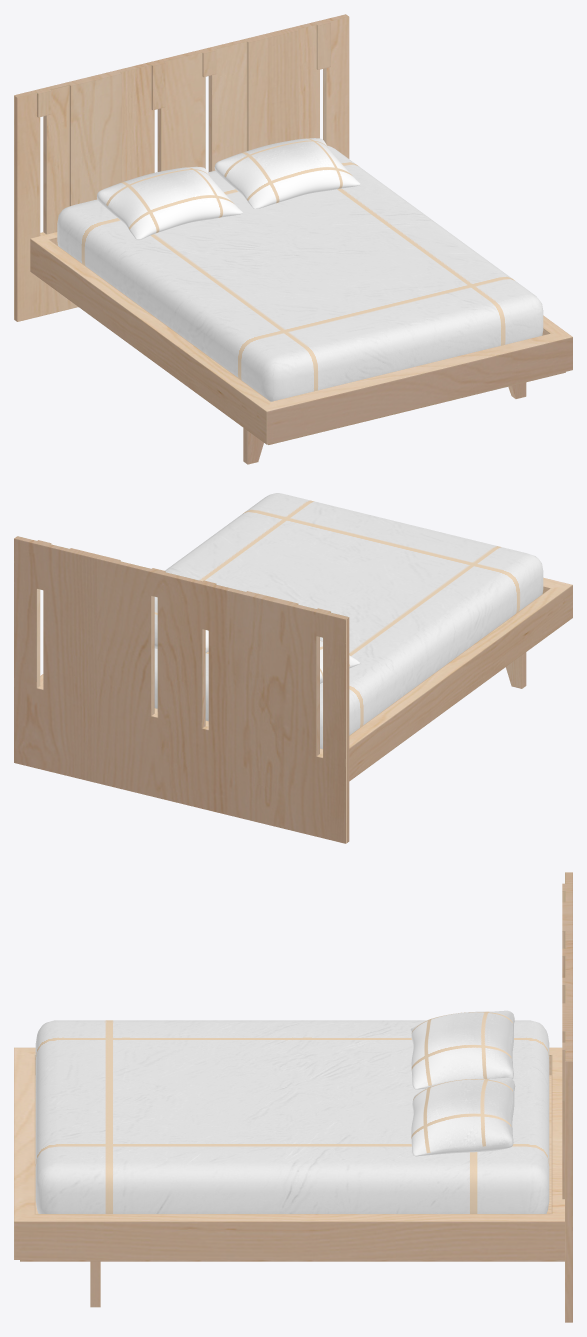
File: gautier_bed.glb
3 renders of one model, top to bottom at view 1: azimuth 30°, elevation 25°; view 2: azimuth 150°, elevation 25°; view 3: azimuth 270°, elevation 25°, orthographic. The views are drawn at different scales.
Parts seen in each view (by area): view 1: Object_2, Object_3, Object_4; view 2: Object_2, Object_3, Object_4; view 3: Object_3, Object_2, Object_4.
Part boxes in pixels (box(x1,y1,x2,y2)): Object_2: box(14, 14, 572, 464); Object_3: box(57, 145, 543, 401); Object_4: box(97, 138, 360, 239); Object_2: box(14, 536, 572, 843); Object_3: box(154, 493, 543, 748); Object_4: box(154, 599, 359, 683); Object_3: box(35, 1020, 549, 1213); Object_2: box(14, 872, 572, 1322); Object_4: box(410, 1010, 515, 1156).
Bounding box in the file's own units: 152 × 98.01 × 190.
Materials: 2 (2 with a texture image).
